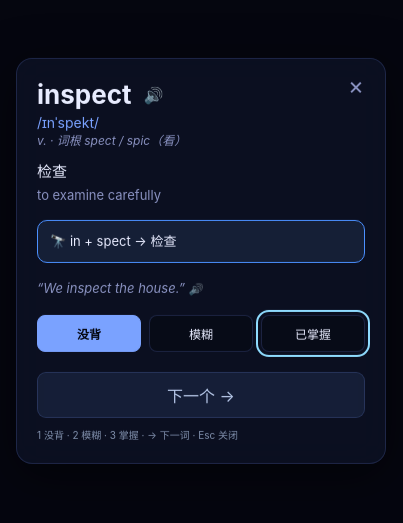
Scenario: 词卡导航与学习闭环 › 存储满了时原进度和选择保留，界面显示失败原因
The image size is (403, 523).
Click the button "已掌握" at (313, 333), box [261,315,365,352]
Wait 600 ms
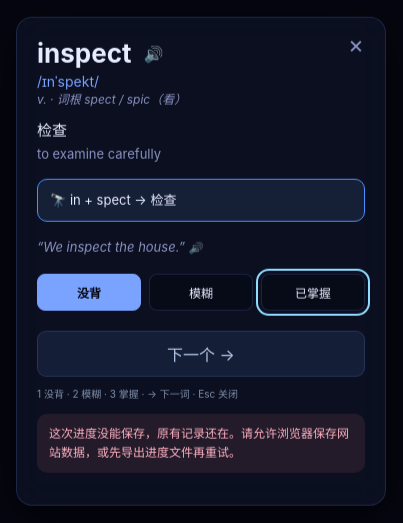
Now the message "这次进度没能保存，原有记录还在。请允许浏览器保存网站数据，或先导出进度文件再重试。" is shown, box [37,414,365,472]
